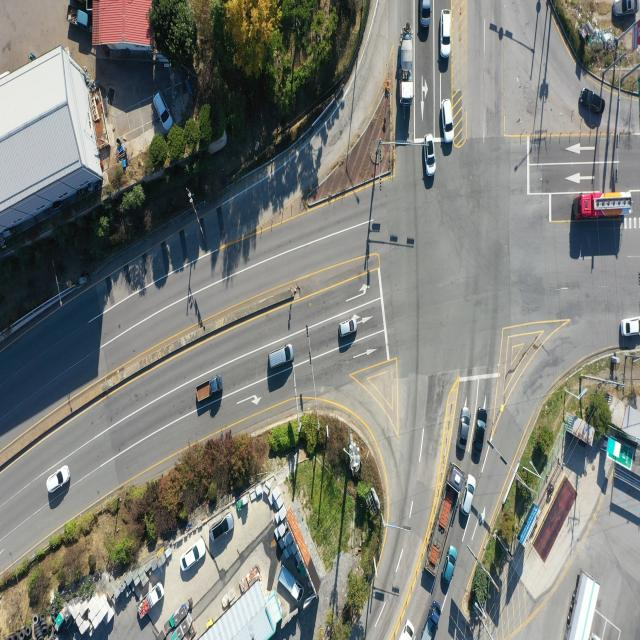car: (179, 539, 207, 574), (153, 91, 173, 132), (577, 86, 603, 115), (474, 407, 488, 460), (268, 344, 295, 371), (46, 466, 69, 495), (212, 517, 234, 546), (461, 475, 476, 517), (442, 98, 455, 144), (441, 9, 453, 58), (458, 407, 470, 452), (444, 545, 458, 582), (425, 136, 436, 178), (614, 0, 636, 20), (340, 317, 358, 337), (622, 318, 640, 336), (421, 0, 432, 29)
medium_truck: (422, 464, 466, 571), (565, 568, 600, 638), (578, 195, 634, 219), (400, 32, 414, 102)
small_truck: (138, 581, 164, 616), (278, 568, 302, 598), (422, 603, 441, 640), (197, 377, 223, 402), (66, 5, 91, 31), (400, 617, 414, 640)
